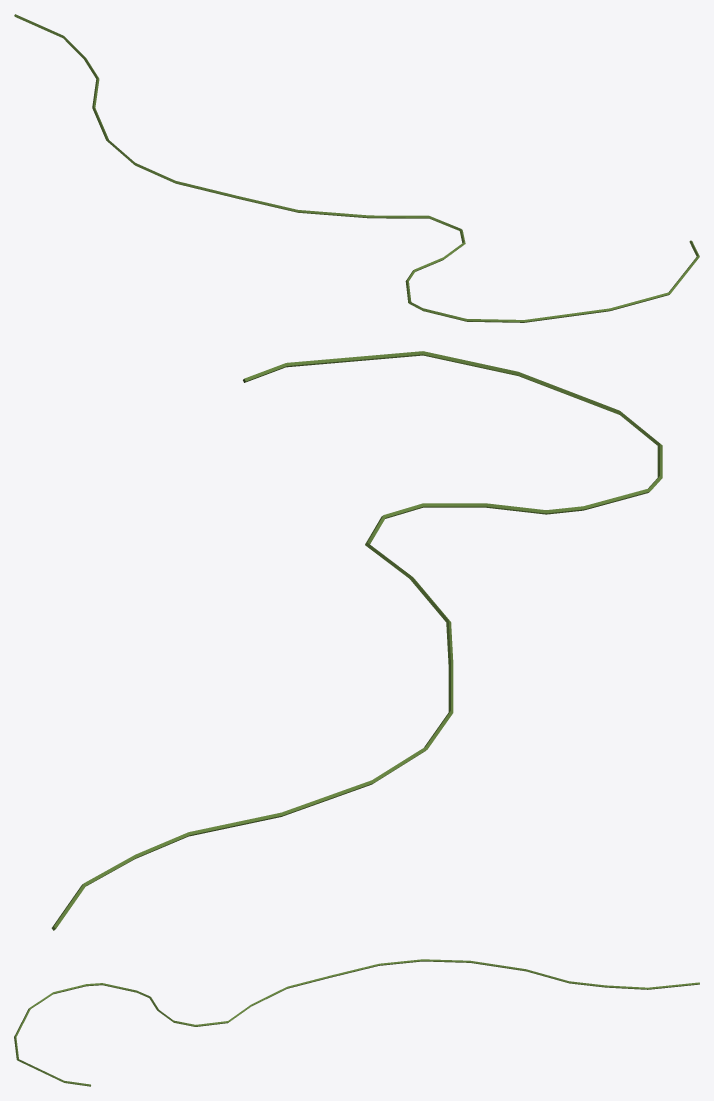
File: SM_liana_ground_01.fbx
3 views of the same model, one above another, from view 1: azimuth 30°, elevation 25°; view 2: azimuth 150°, elevation 25°; view 3: azimuth 270°, elevation 25° (orthographic). The views are drawn at different scales.
Visible parts, largest first — view 1: Line024; view 2: Line024; view 3: Line024.
Boxes of the visible parts, x1,y1,x2,y2 form: Line024: (14, 14, 699, 322); Line024: (51, 351, 662, 930); Line024: (14, 959, 699, 1086).
Size of the model in its own units: 247 by 2.03 by 567.
